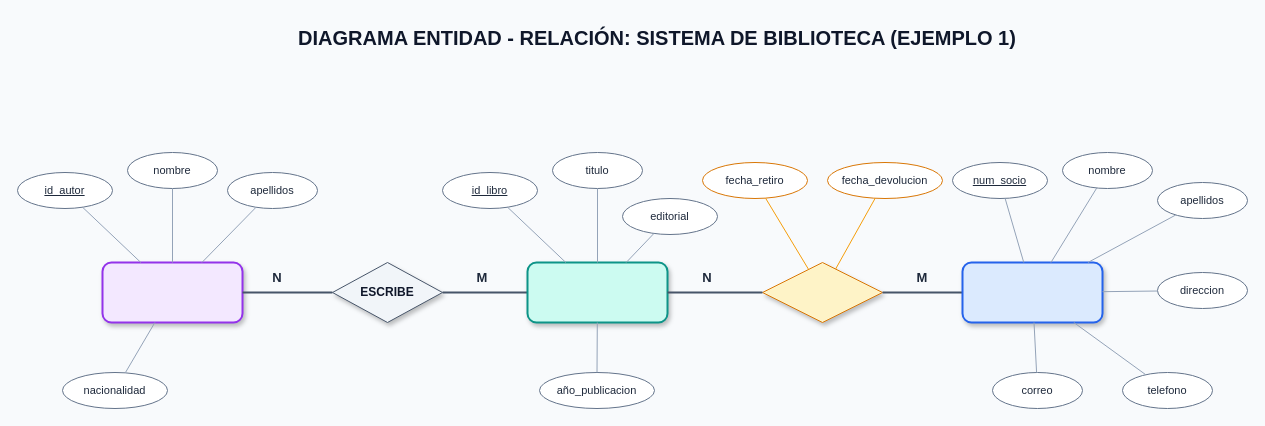
This 1265x426 diagram has some shape labels left out. The shapes that lost their labels are listed below. From the top down, each one's centre as x and y in pixels, then its label:
At [173,293]: "AUTOR".
At [598,293]: "LIBRO".
At [823,294]: "PRESTAMO".
At [1033,293]: "SOCIO".
